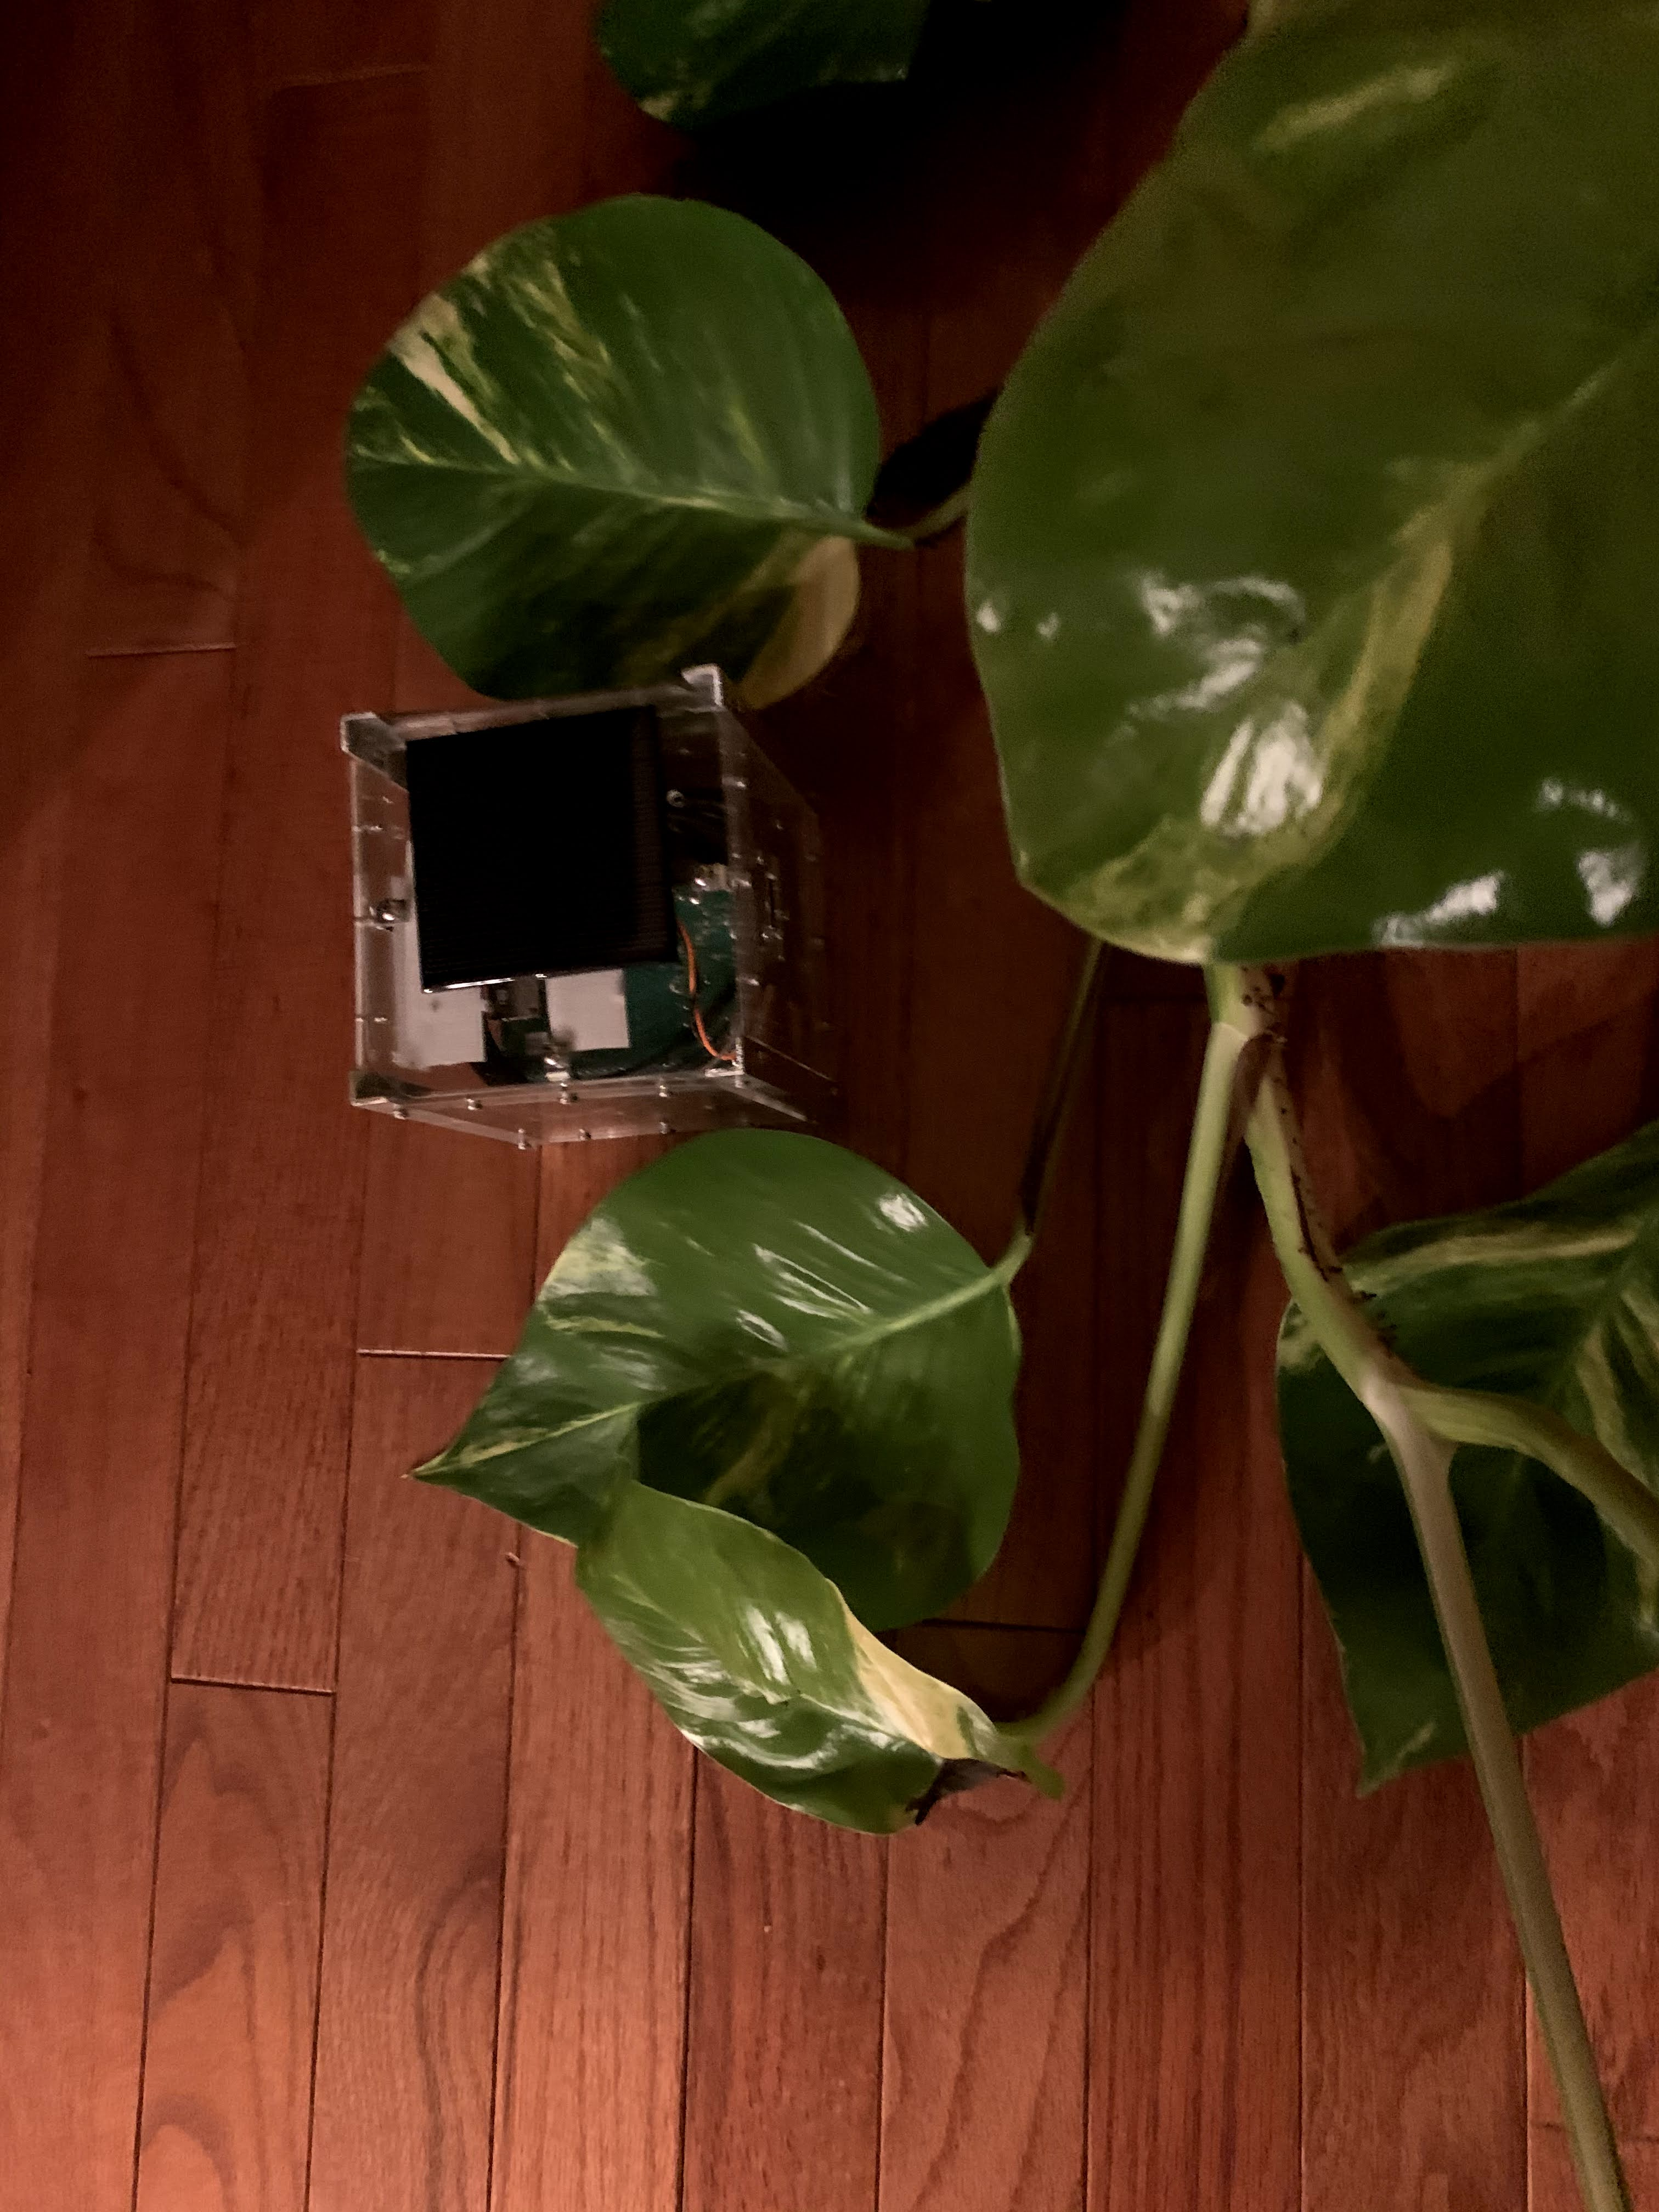Space-debris-cubesat: (272, 676, 936, 1165)
